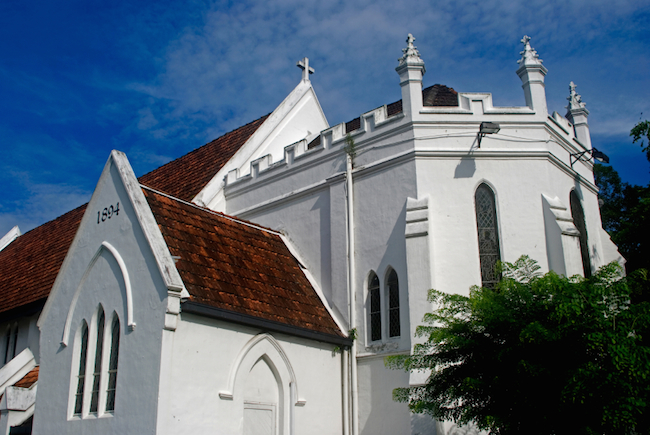Church: (22, 31, 604, 382)
